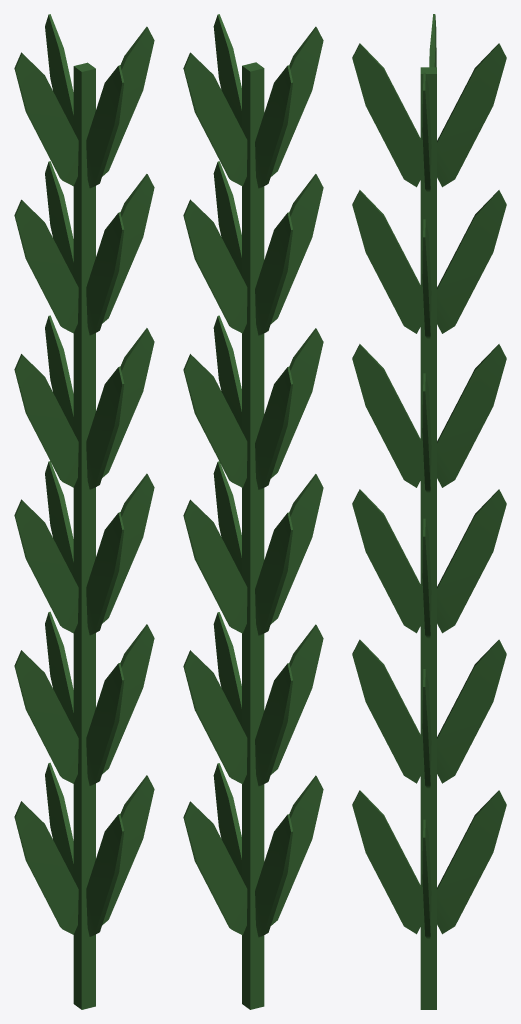
The model's file is SM_KelpPlaceHolder3_S.fbx.
The picture shows the model from 3 angles, left to right: view 1: azimuth 30°, elevation 25°; view 2: azimuth 210°, elevation 25°; view 3: azimuth 270°, elevation 25°; orthographic projection.
Visible parts, largest first — view 1: pCube55; view 2: pCube55; view 3: pCube55.
Part boxes in pixels (x1,y1,x2,y2): pCube55: [14, 14, 154, 1009]; pCube55: [183, 14, 323, 1009]; pCube55: [352, 14, 506, 1009].
Size of the model in its own units: 60.1 by 414 by 60.2.
